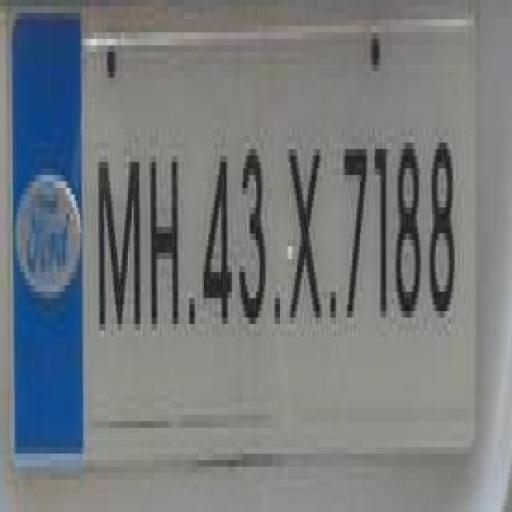number plate: (0, 19, 486, 447)
